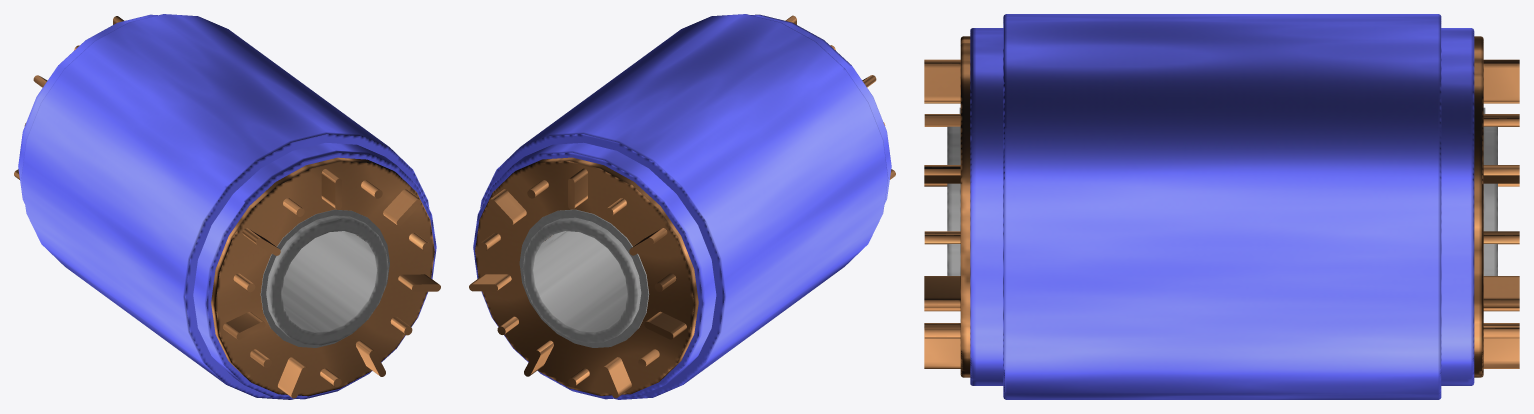
Rendered from 笼型转子.fbx.
3 views of the same model, side by side, from view 1: azimuth 30°, elevation 25°; view 2: azimuth 150°, elevation 25°; view 3: azimuth 270°, elevation 25° (orthographic). The views are drawn at different scales.
Parts seen in each view (by area): view 1: 笼型转子; view 2: 笼型转子; view 3: 笼型转子.
Boxes of the visible parts, <box> form: 笼型转子: <box>14,14,440,399</box>; 笼型转子: <box>469,14,895,399</box>; 笼型转子: <box>924,14,1519,399</box>.
Size of the model in its own units: 140 by 139 by 216.
